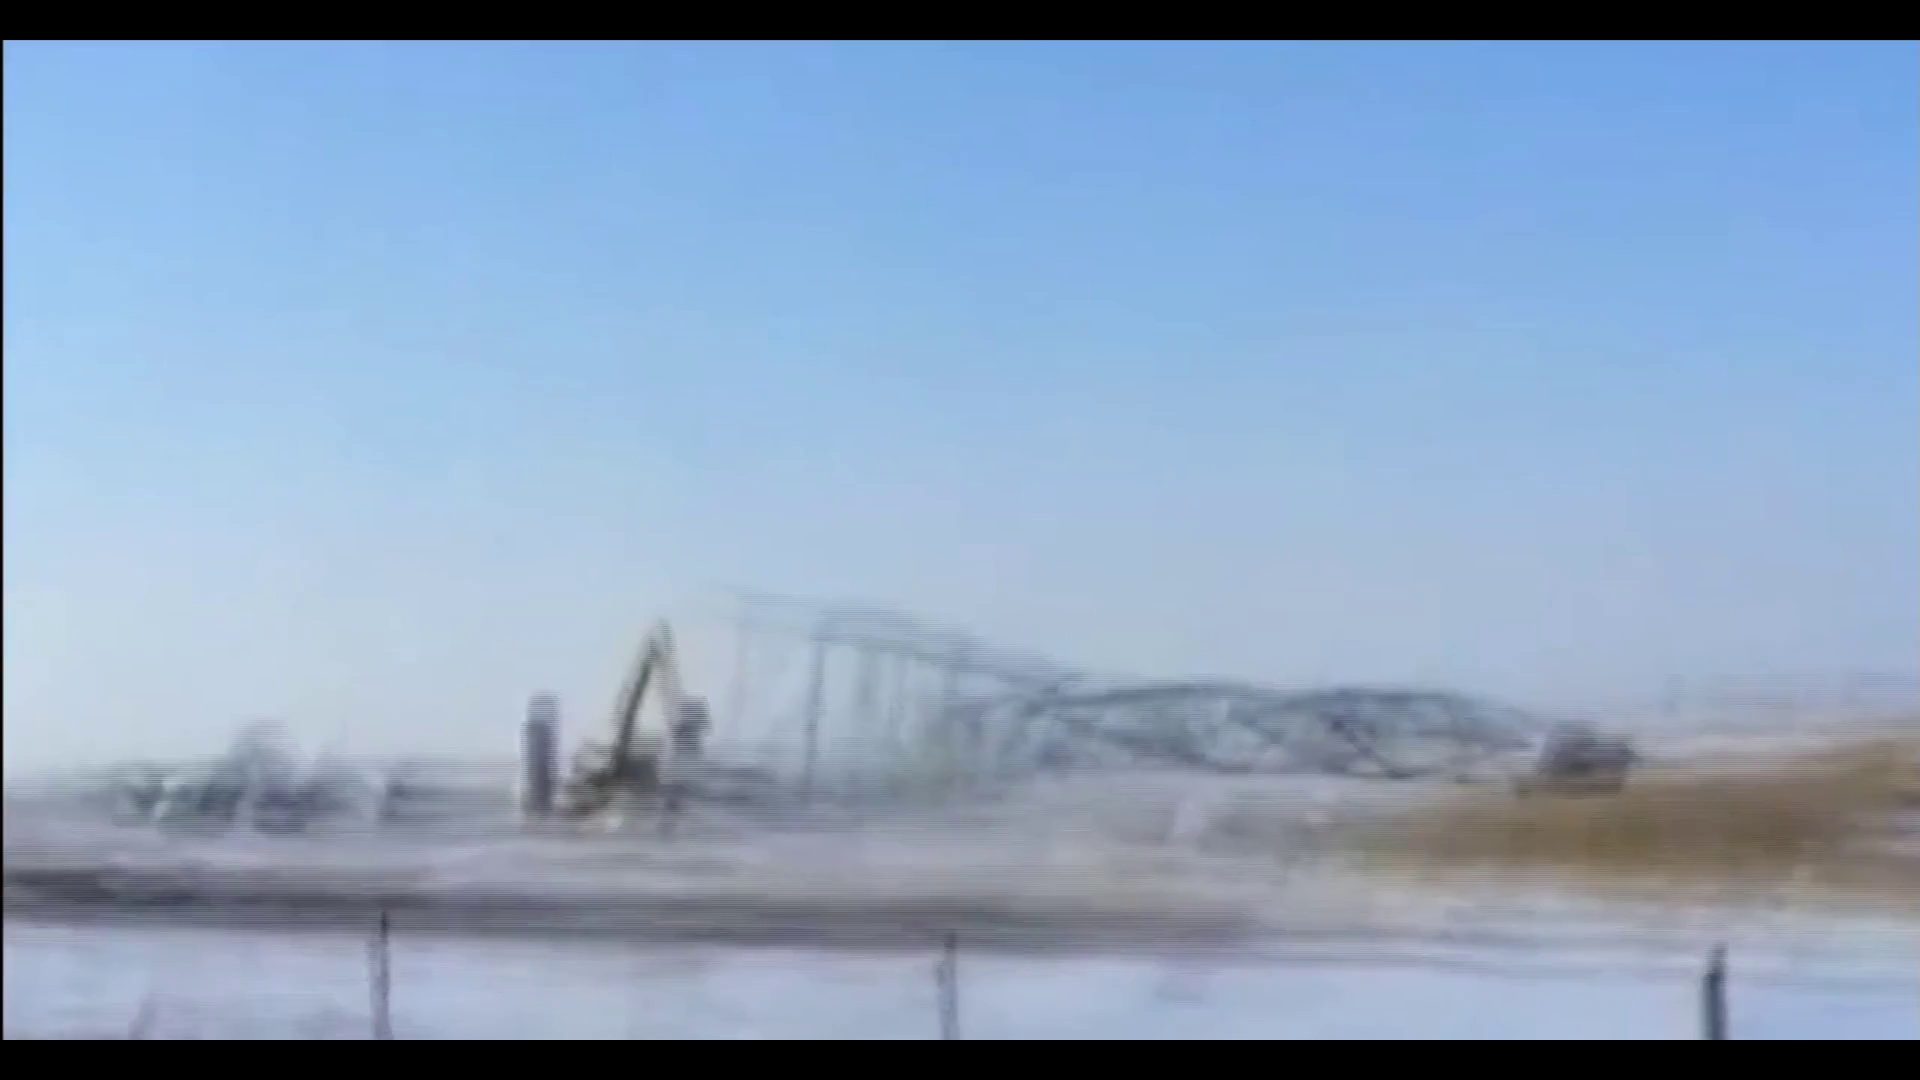tower_down: (713, 582, 1665, 837)
